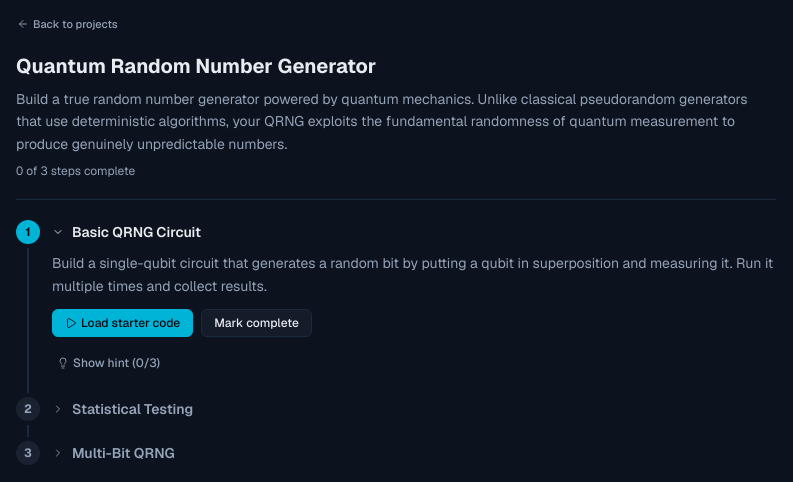
Test: CapstoneProjectView › step titles are disclosures that can be collapsed
Click the button "Basic QRNG Circuit": (126, 232) top-left (52, 220), bottom-right (201, 244)
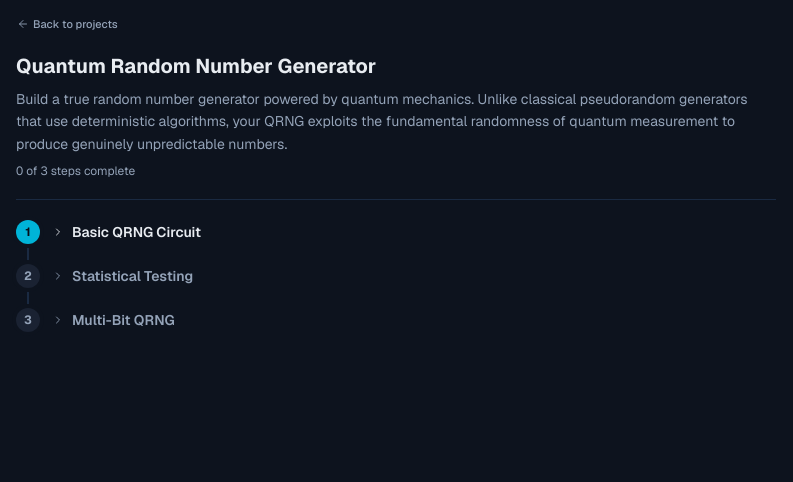
Now the button "Basic QRNG Circuit" is collapsed, box top-left (52, 220), bottom-right (201, 244)
